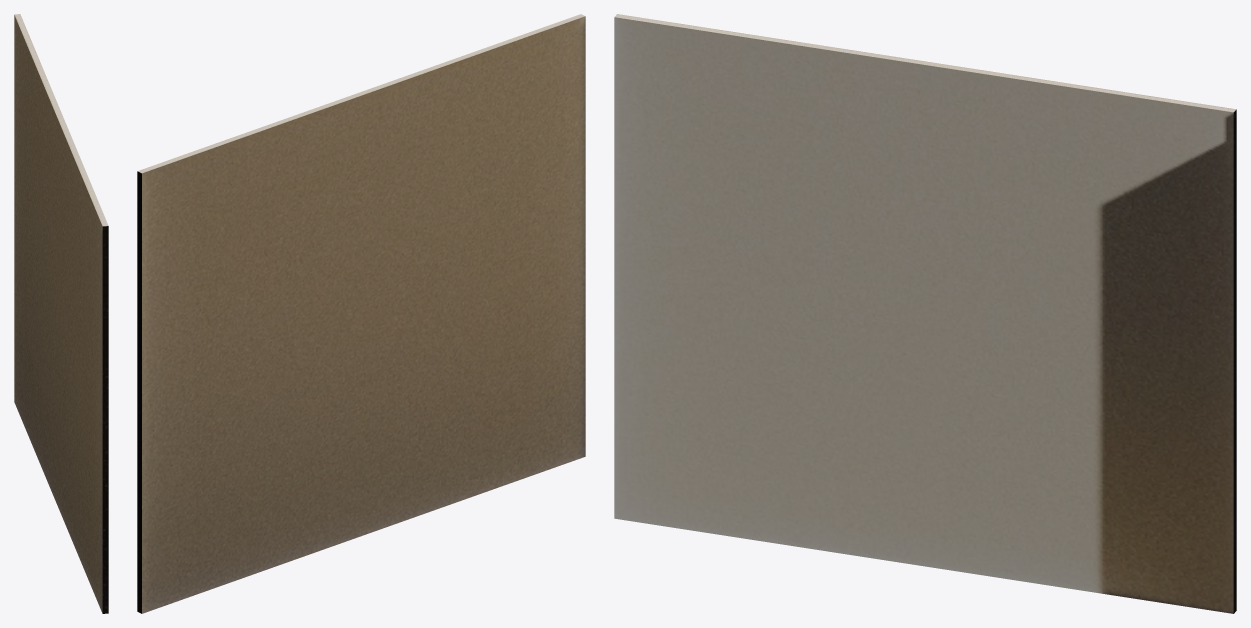
Rendered from Building_05_App_03_Glass.fbx.
The picture shows the model from 3 angles, left to right: view 1: azimuth 30°, elevation 25°; view 2: azimuth 150°, elevation 25°; view 3: azimuth 270°, elevation 25°; orthographic projection. The views are drawn at different scales.
Parts seen in each view (by area): view 1: Building_05_App_03_Glass; view 2: Building_05_App_03_Glass; view 3: Building_05_App_03_Glass.
Boxes of the visible parts, bbox=[...] form: Building_05_App_03_Glass: bbox=[14, 14, 108, 613]; Building_05_App_03_Glass: bbox=[137, 14, 585, 613]; Building_05_App_03_Glass: bbox=[614, 14, 1236, 613].
Bounding box in the file's own units: 0.583 × 1.38 × 1.56.
Materials: 1 (1 with a texture image).
